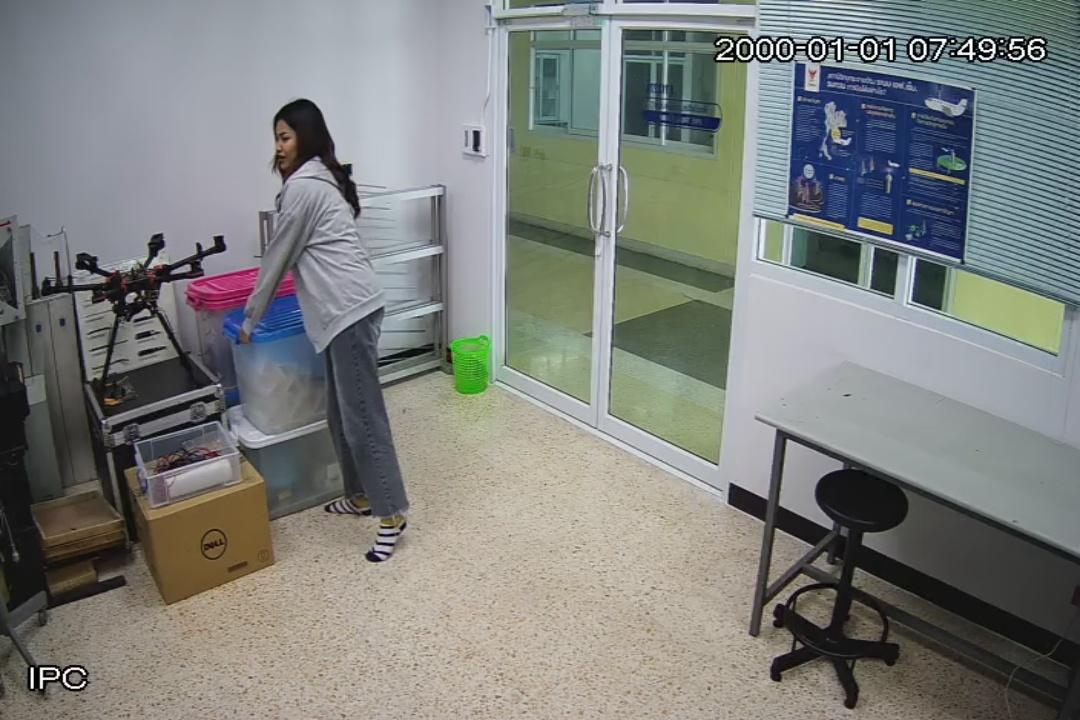normal: (235, 97, 411, 564)
